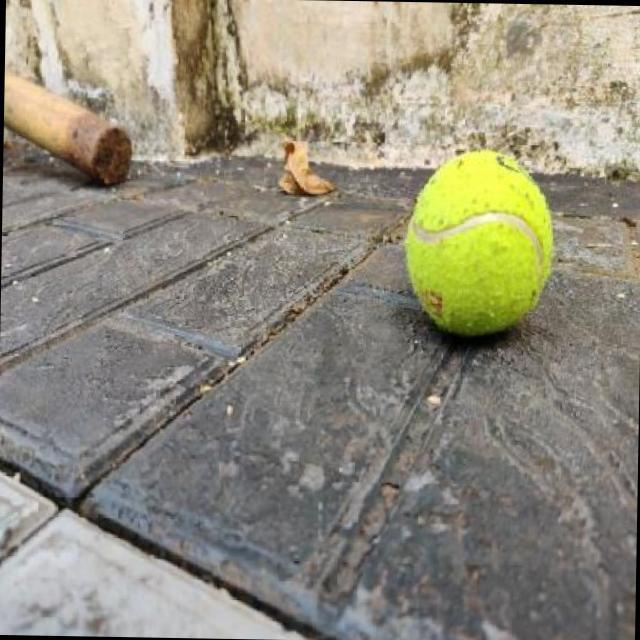-: (388, 134, 578, 353)
